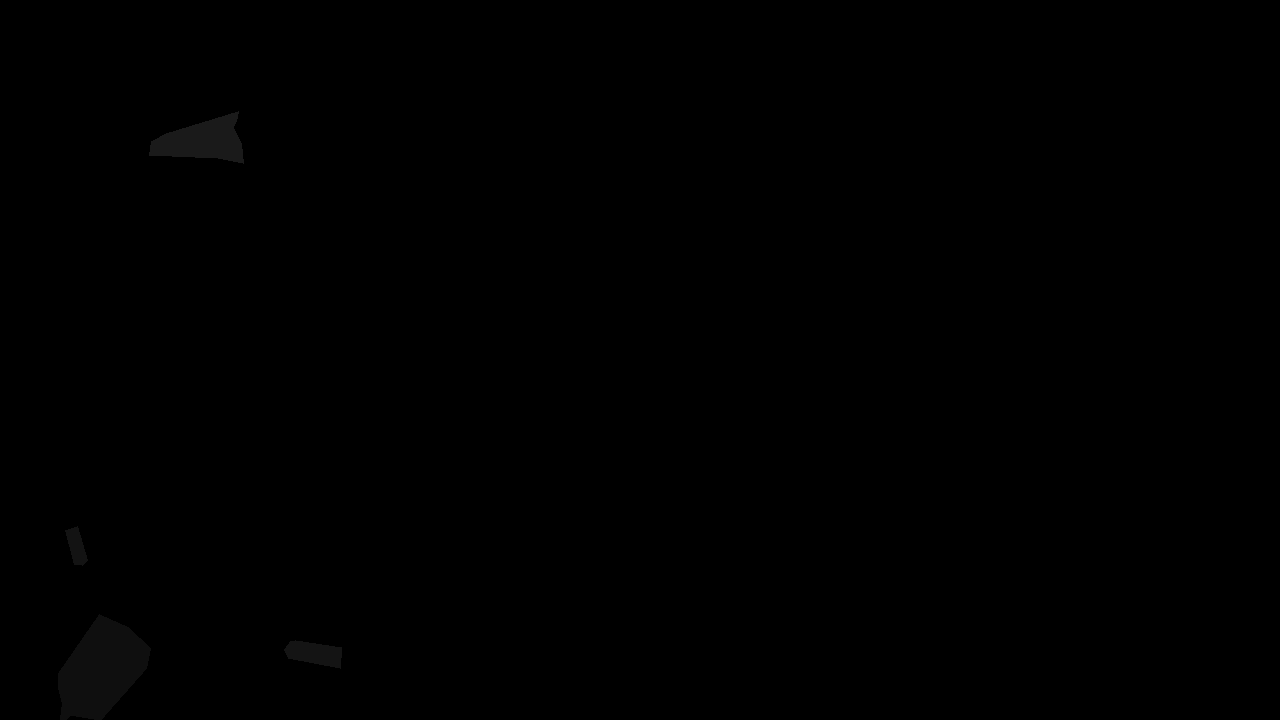Milk: (58, 614, 150, 719)
Stapler_stan: (149, 111, 243, 163)
Usb_Big: (284, 640, 341, 668)
Usb_small: (65, 526, 87, 565)
